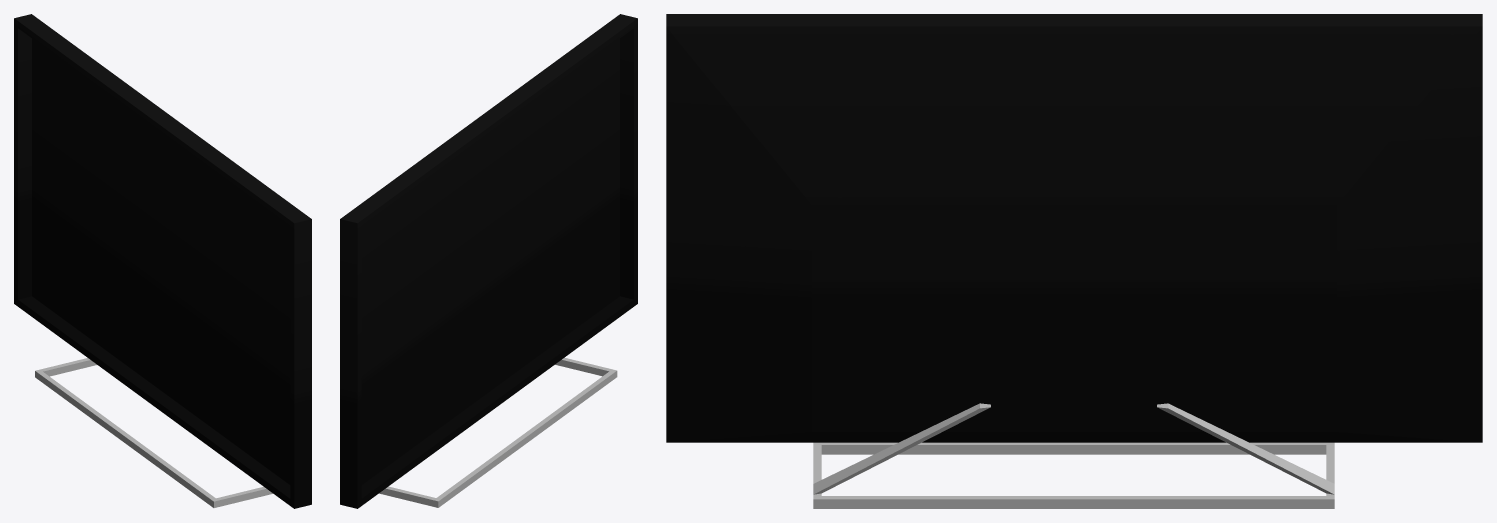
The picture shows the model from 3 angles, left to right: view 1: azimuth 30°, elevation 25°; view 2: azimuth 150°, elevation 25°; view 3: azimuth 270°, elevation 25°; orthographic projection. The views are drawn at different scales.
Parts seen in each view (by area): view 1: TV; view 2: TV; view 3: TV.
Part boxes in pixels (left/top/right/bottom): TV: left=14, top=14, right=311, bottom=508; TV: left=340, top=14, right=637, bottom=508; TV: left=666, top=14, right=1482, bottom=508.
Size of the model in its own units: 25.13 by 92.96 by 150.
